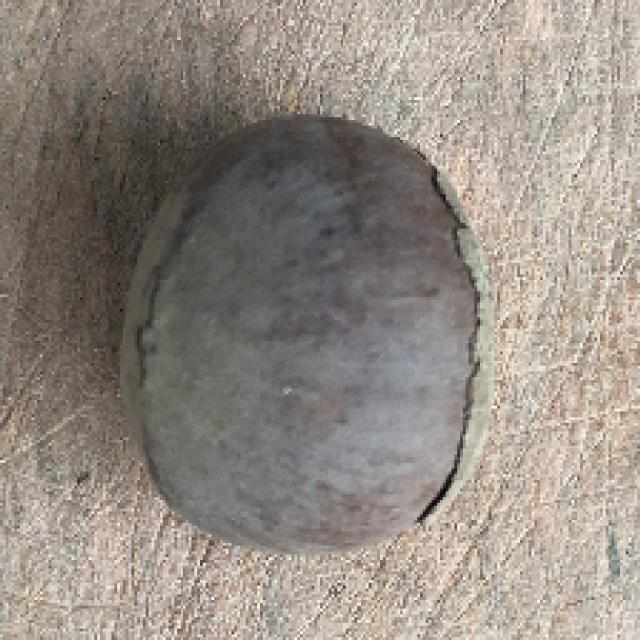DamagedHazelnut: (121, 115, 493, 552)
